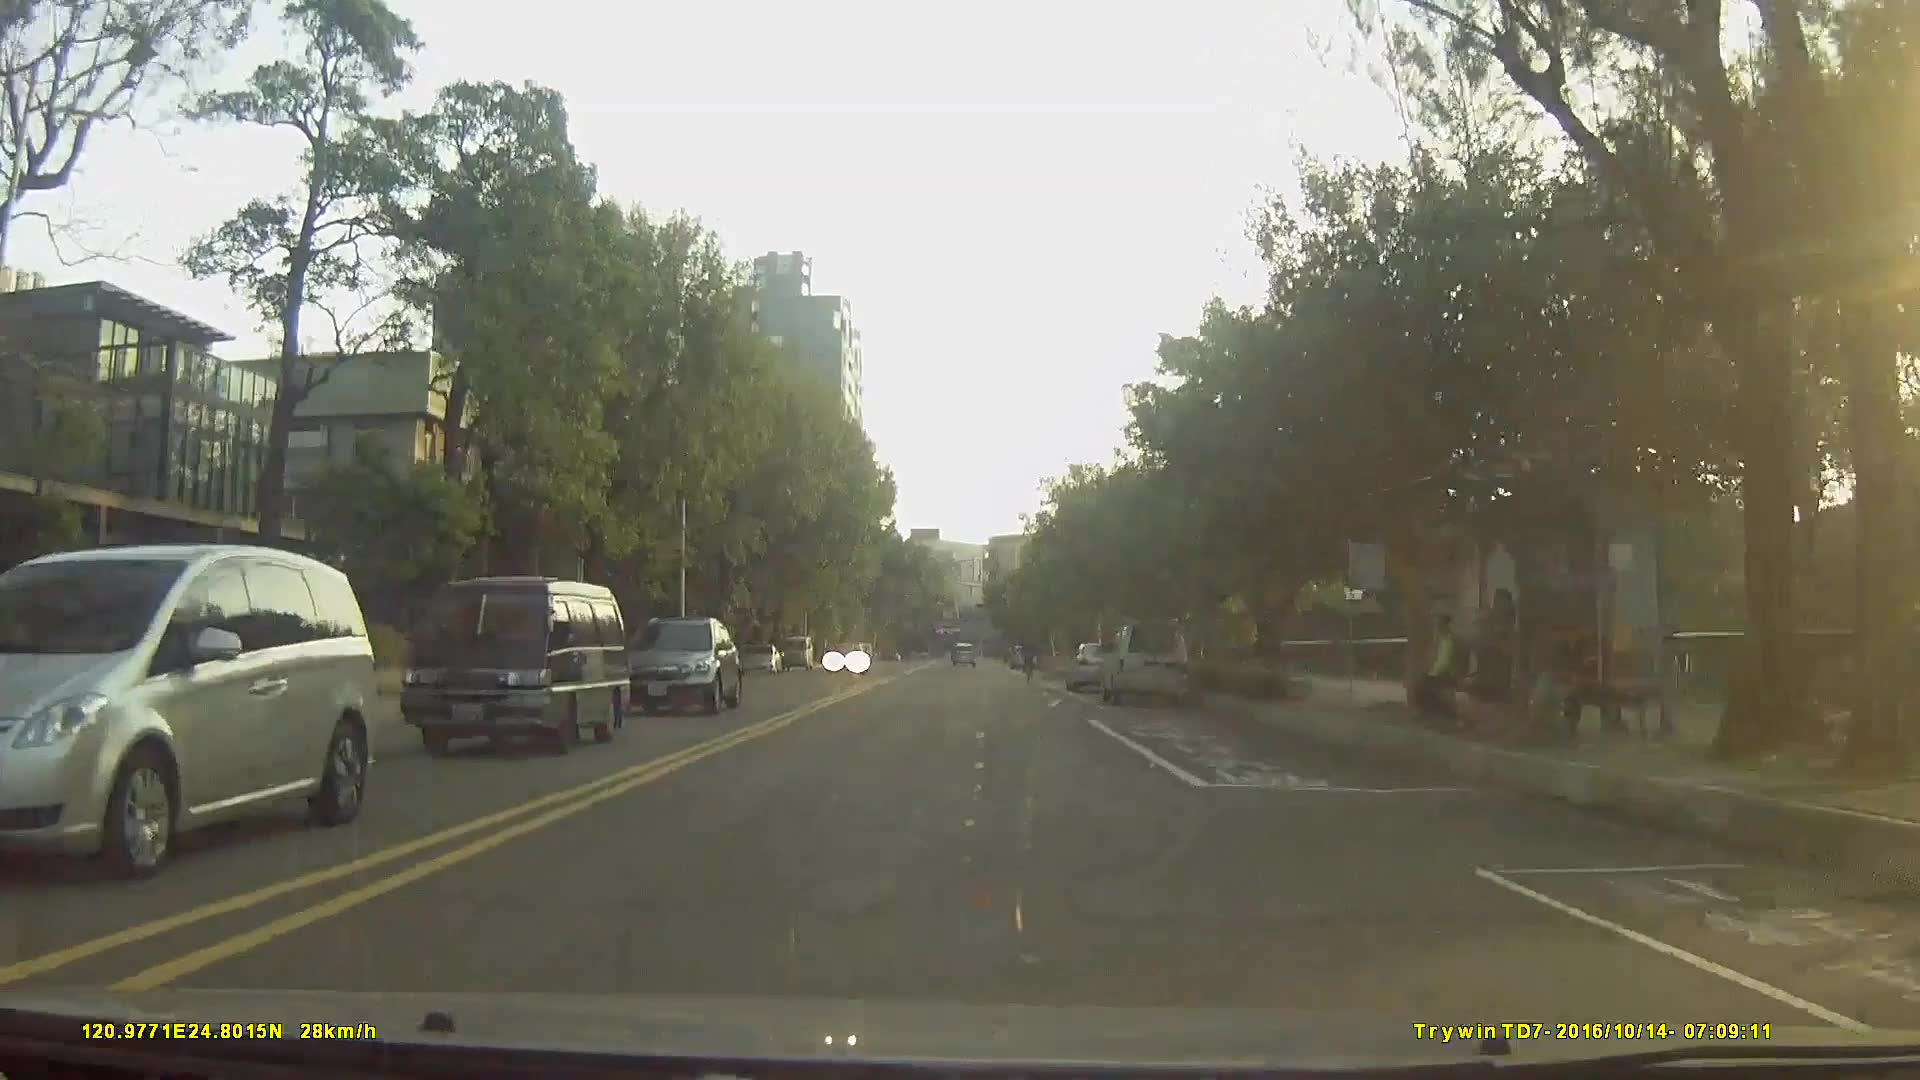pedestrian: (1451, 587, 1524, 735), (1519, 615, 1586, 744), (1417, 610, 1475, 723)
rider: (1019, 632, 1039, 688)
vehicle: (0, 546, 375, 876), (399, 575, 629, 758), (618, 617, 744, 713), (1100, 616, 1188, 703), (1065, 638, 1123, 688), (822, 637, 870, 672), (740, 642, 781, 675), (780, 633, 814, 669), (949, 639, 974, 664)
